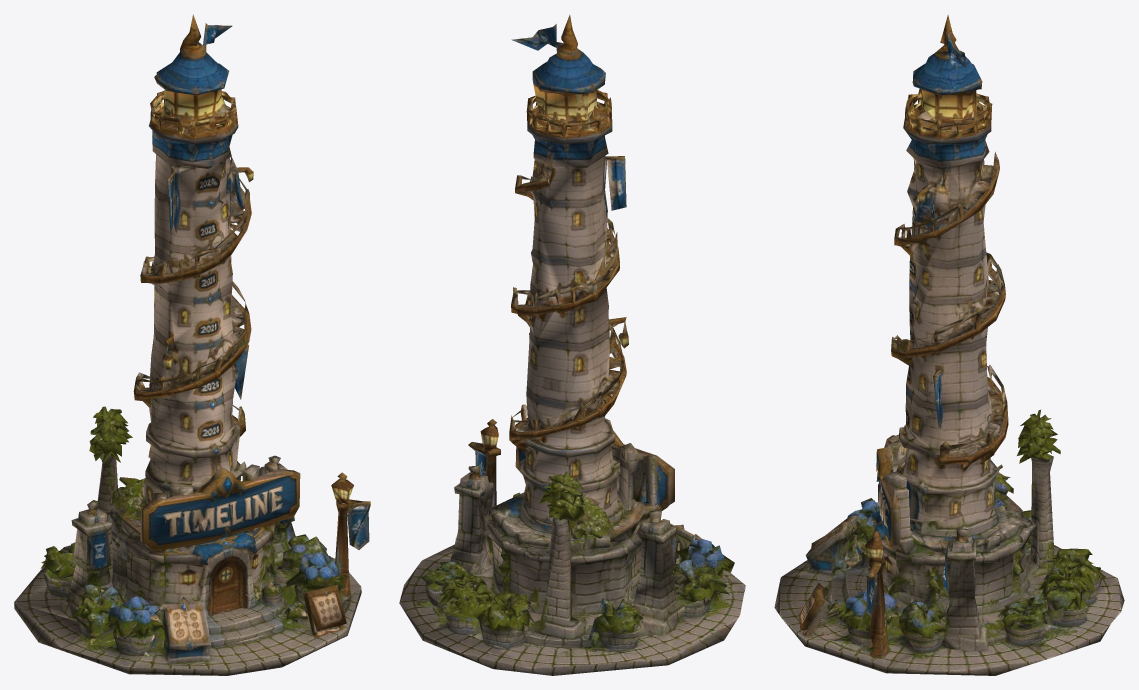
The model's file is life-timeline.glb.
3 views of the same model, side by side, from view 1: azimuth 30°, elevation 25°; view 2: azimuth 150°, elevation 25°; view 3: azimuth 270°, elevation 25° (orthographic).
Parts seen in each view (by area): view 1: Mesh1.0; view 2: Mesh1.0; view 3: Mesh1.0.
Boxes of the visible parts, x1,y1,x2,y2 form: Mesh1.0: [14, 14, 370, 675]; Mesh1.0: [399, 14, 745, 675]; Mesh1.0: [774, 14, 1124, 675].
Bounding box in the file's own units: 1.02 × 1.9 × 1.02.
1 material, 1 textured.
